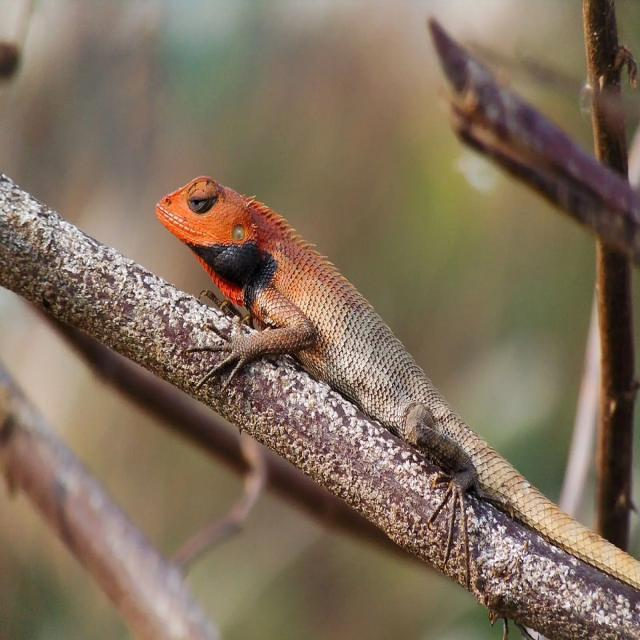Lizard: (152, 172, 640, 594)
